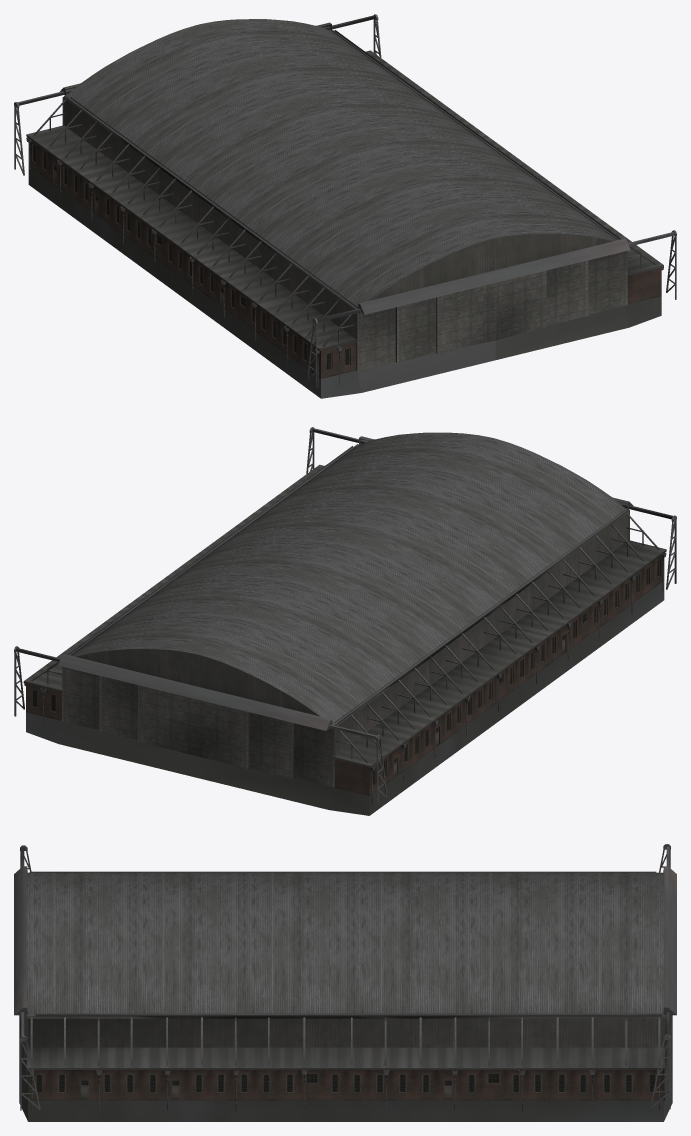
File: obj_jhangar.glb
3 renders of one model, top to bottom at view 1: azimuth 30°, elevation 25°; view 2: azimuth 150°, elevation 25°; view 3: azimuth 270°, elevation 25°, orthographic. The views are drawn at different scales.
Visible parts, largest first — view 1: body|hangar; view 2: body|hangar; view 3: body|hangar.
Part boxes in pixels (x1,y1,x2,y2): body|hangar: (14, 14, 676, 398); body|hangar: (14, 427, 676, 815); body|hangar: (14, 844, 676, 1121).
Size of the model in its own units: 61.89 by 19.3 by 89.88.
Materials: 1 (1 with a texture image).
